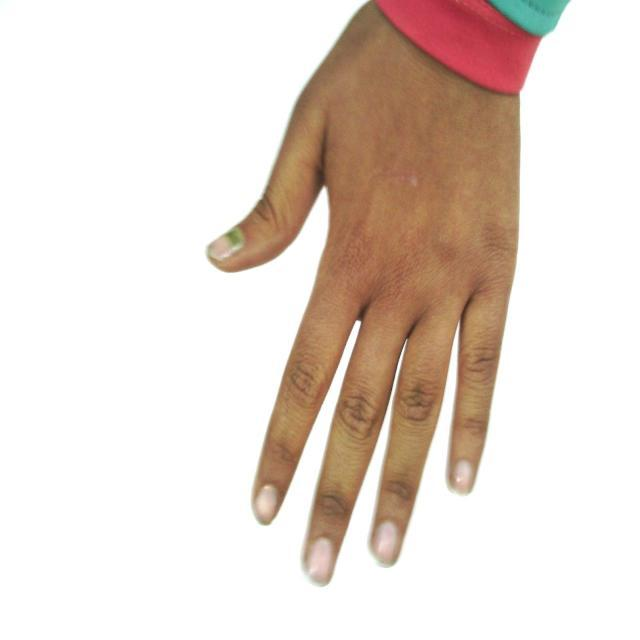Fingernail: (308, 538, 333, 586), (373, 522, 398, 566), (208, 229, 244, 259), (255, 486, 277, 523), (453, 461, 473, 494)
